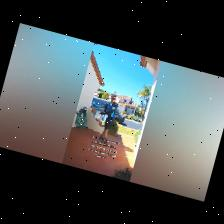person: (99, 94, 117, 139)
